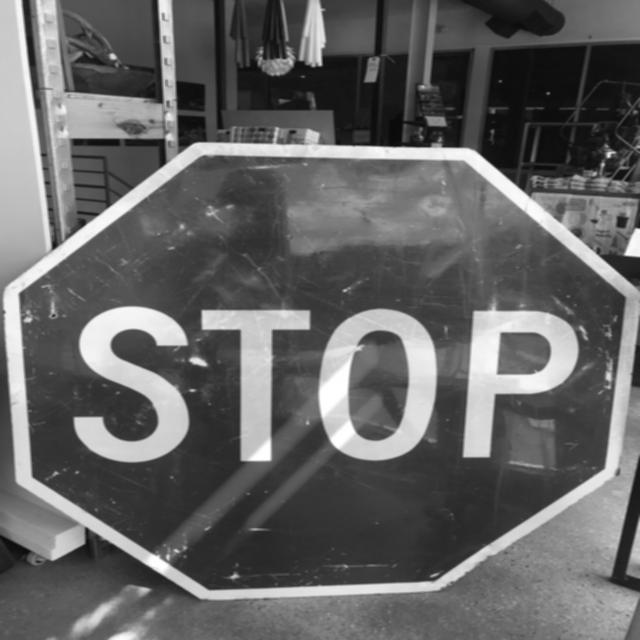Stop-sign: (0, 121, 640, 602)
